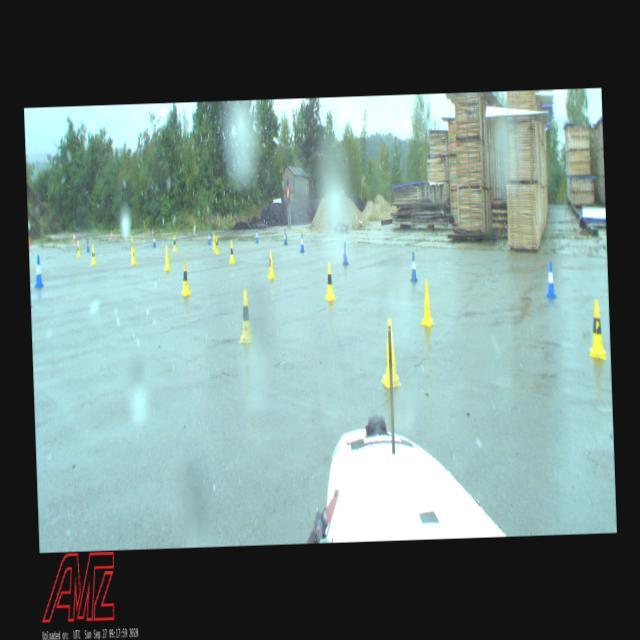blue_cone: (545, 260, 555, 298), (33, 254, 43, 286), (409, 252, 417, 281), (342, 241, 348, 265), (300, 232, 304, 252), (254, 226, 258, 243), (282, 228, 286, 245), (152, 232, 156, 246), (86, 238, 90, 252), (207, 230, 210, 244)
orange_cone: (150, 227, 154, 238), (28, 236, 30, 247), (73, 232, 75, 242), (110, 230, 112, 238)
yellow_cone: (378, 317, 401, 386), (586, 300, 605, 360), (237, 289, 252, 342), (420, 278, 432, 326), (324, 262, 334, 300), (180, 259, 190, 295), (267, 249, 275, 278), (163, 245, 170, 270), (228, 240, 235, 264), (130, 242, 136, 264), (90, 244, 96, 265), (214, 235, 219, 254), (172, 234, 176, 250), (76, 240, 80, 256), (211, 232, 215, 248), (130, 236, 133, 252)
